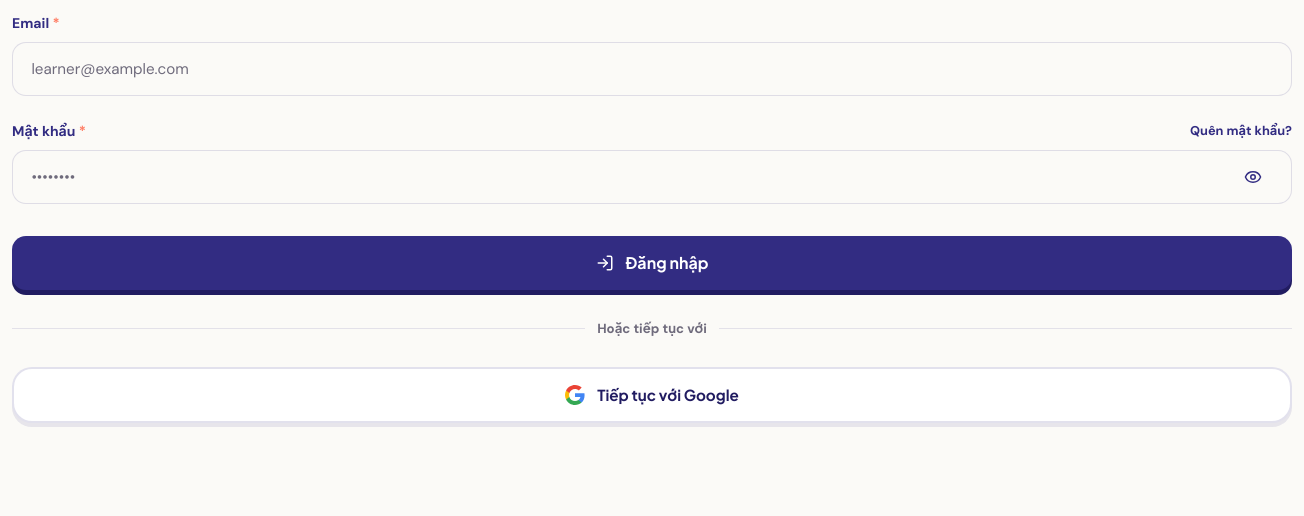
does not announce success or enter Admin after sync fails
The width and height of the screenshot is (1304, 516).
In the field labelled "Email *": (652, 69) [12,42,1292,96], type "admin@example.test"
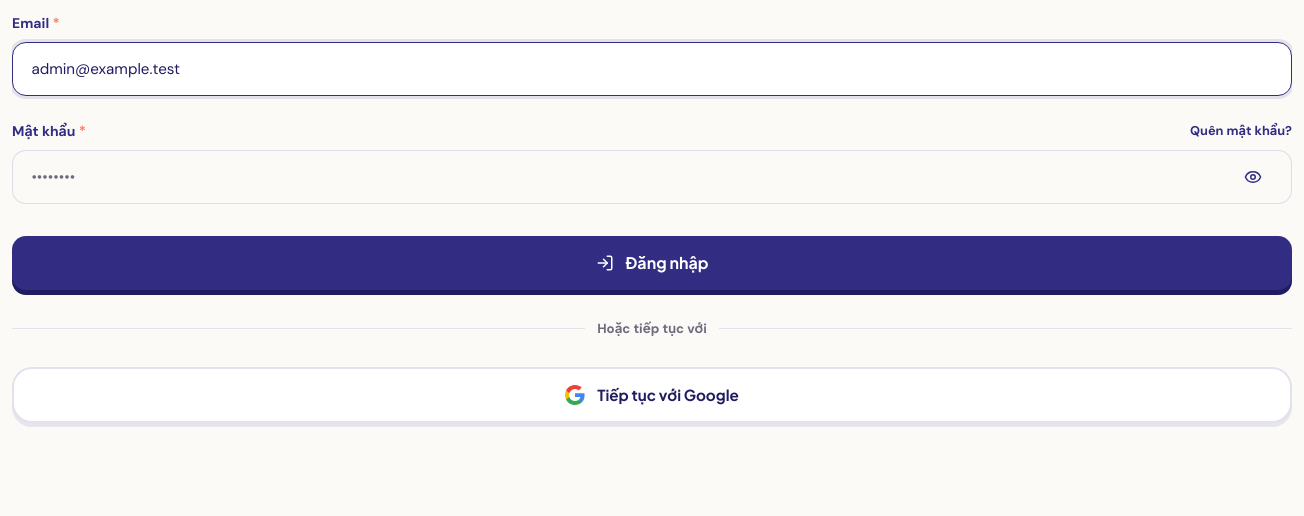
In the password field labelled "Mật khẩu *": (652, 177) [12,150,1292,204], type "StrongPassword1!"
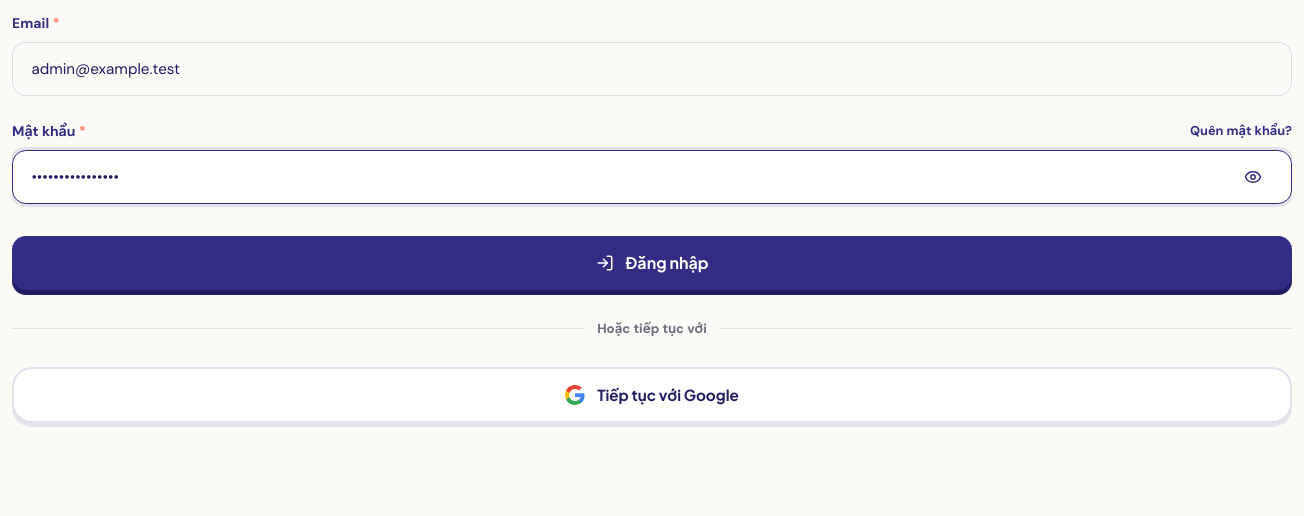
Click the button "Đăng nhập": (652, 263) [12,236,1292,290]
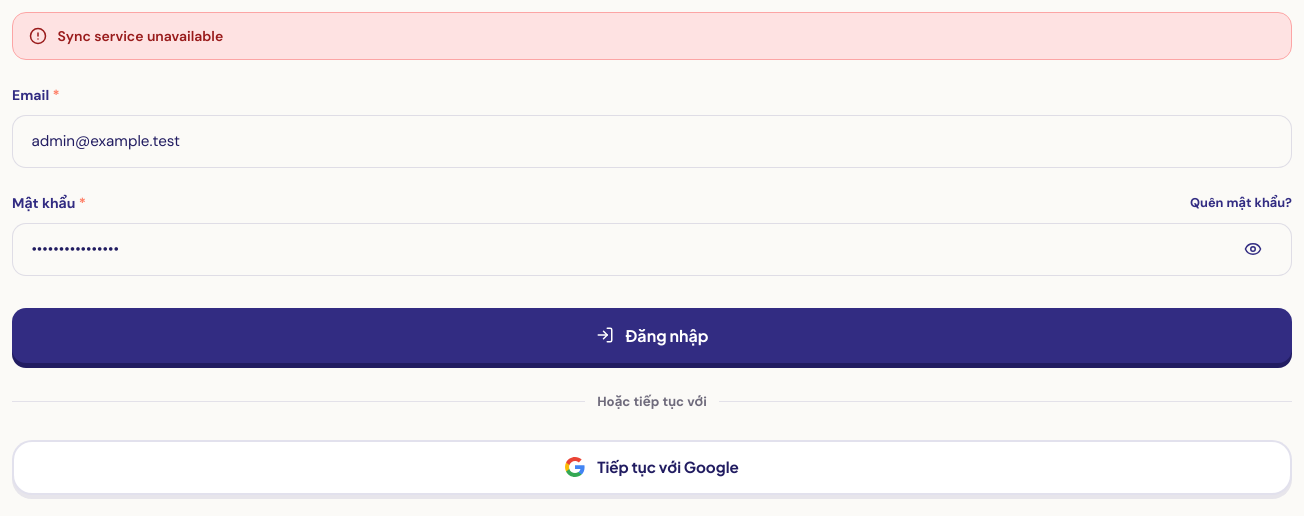
Expected: the text "Sync service unavailable" is shown, [57,25,223,47]
